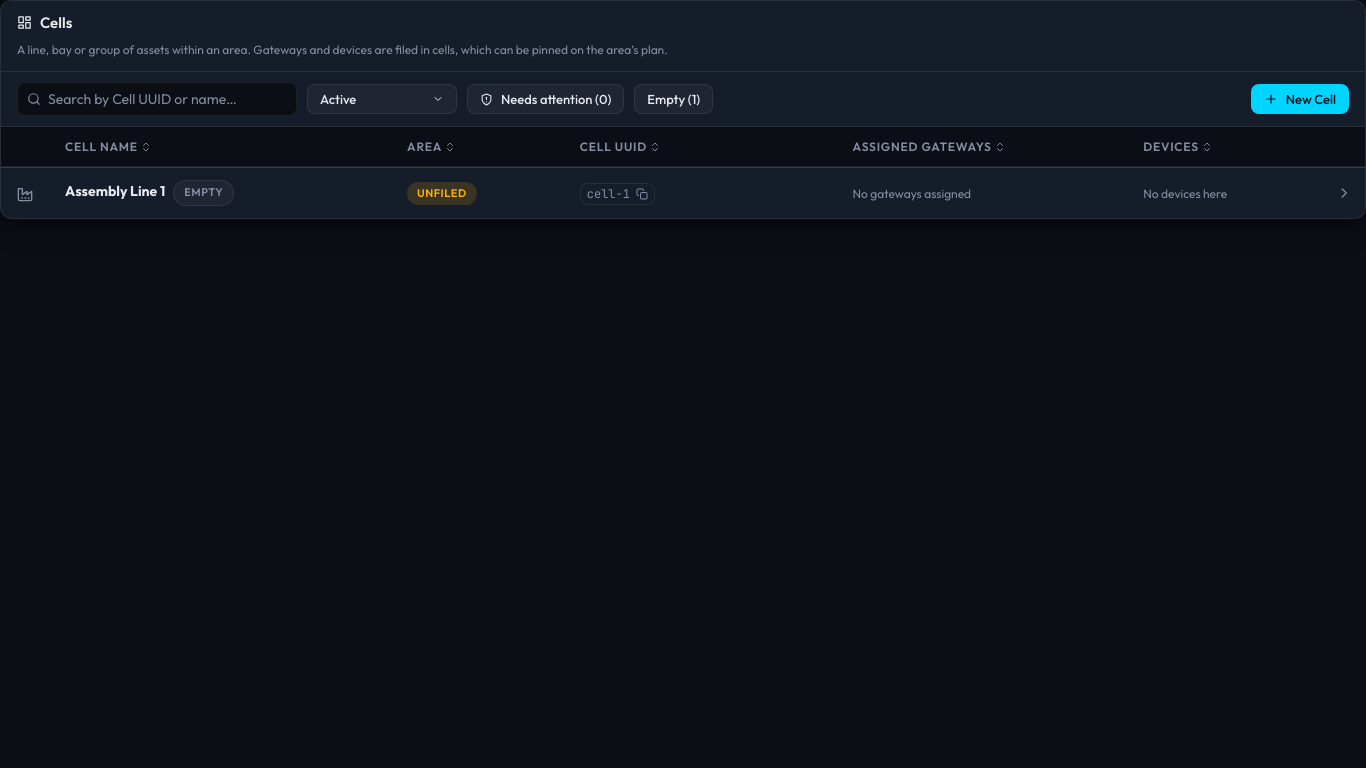
Test: editing a cell › says that nothing has changed, and sends nothing
What coordinates should you click on to do the following:
click the text "Assembly Line 1"
I would click on:
 (115, 191)
Its box is [1,168,1365,218].
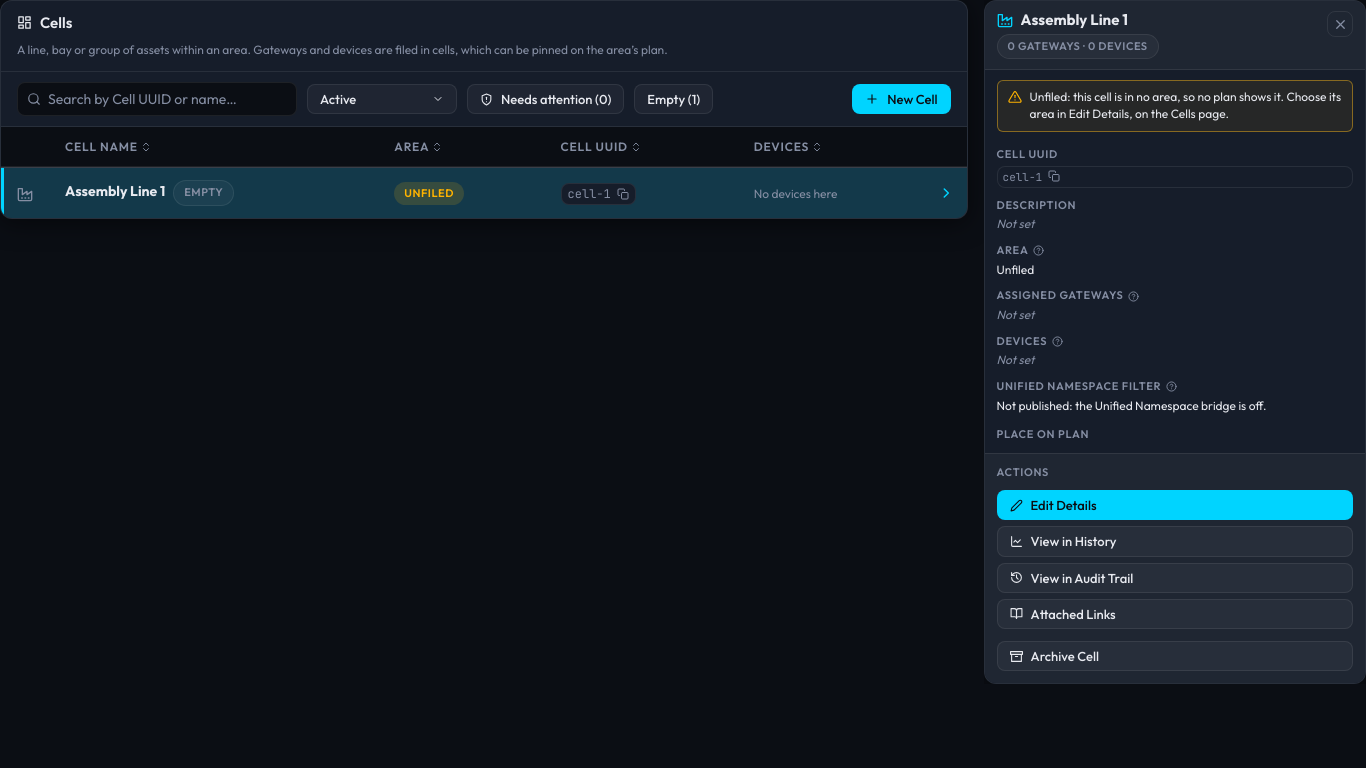
Expected: the button with class "context-action" showing "Edit Details" is shown
What coordinates should you click on to do the following:
click the button with class "context-action" showing "Edit Details"
I would click on:
 (1064, 505)
Its box is [996,490,1353,520].
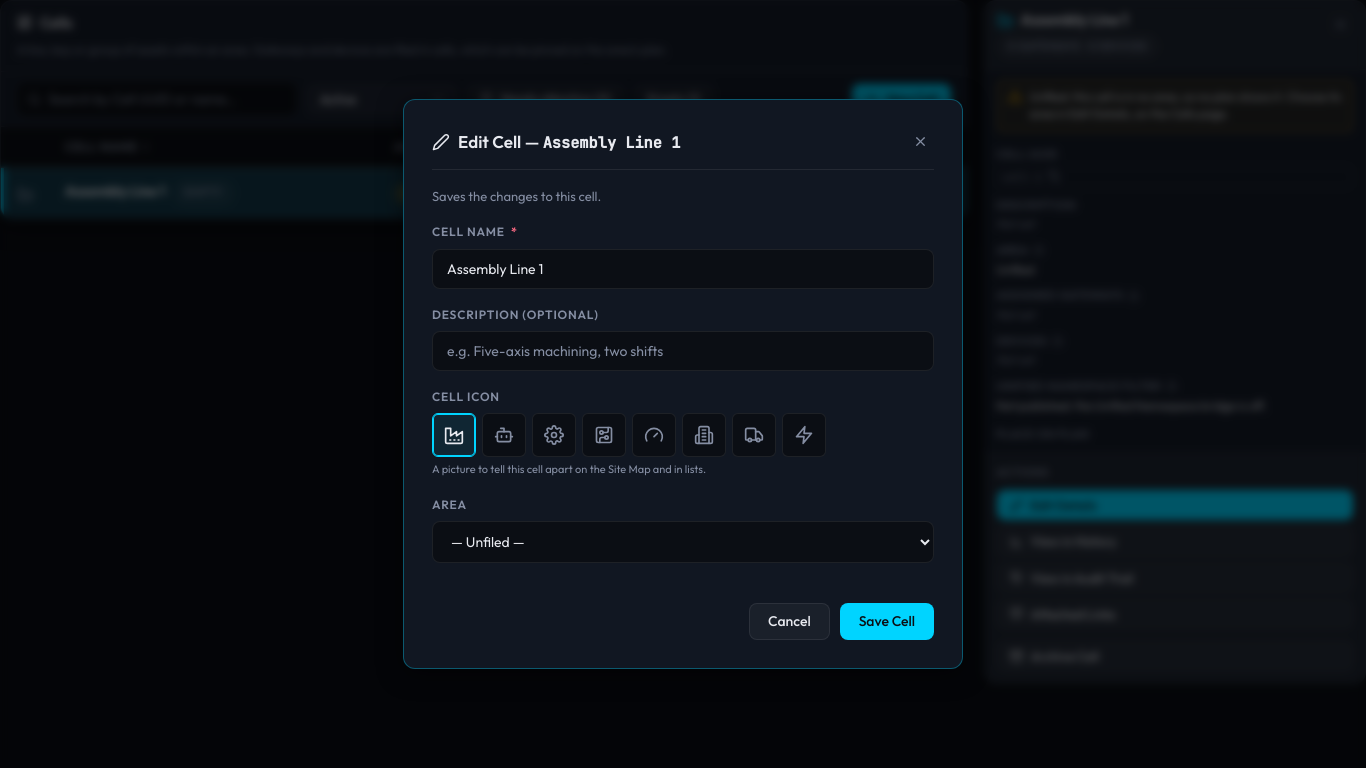
Expected: the button "Save Cell" is enabled
What coordinates should you click on to do the following:
click the button "Save Cell"
I would click on:
 (887, 622)
Its box is [840,603,934,640].
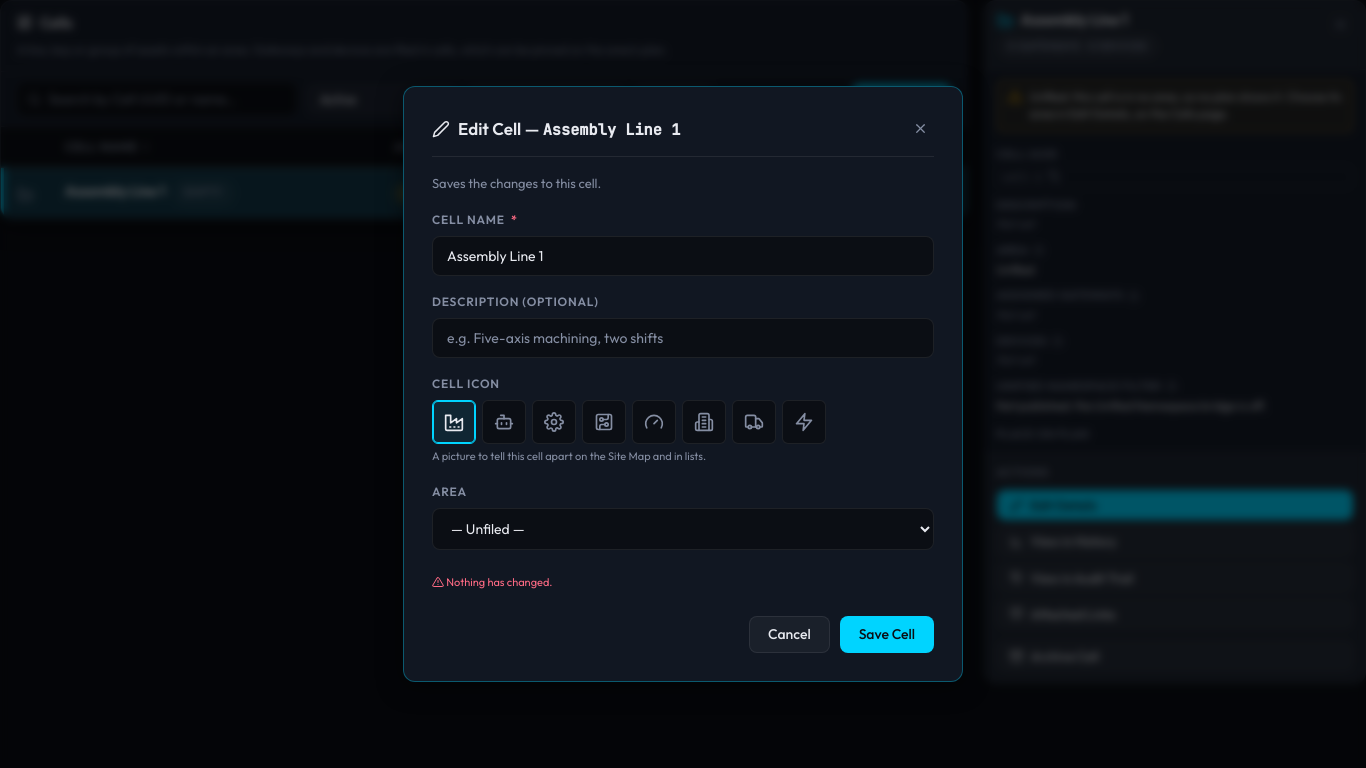
Expected: the element with class "hint-danger" reads "Nothing has changed.", [446,575,552,589]
